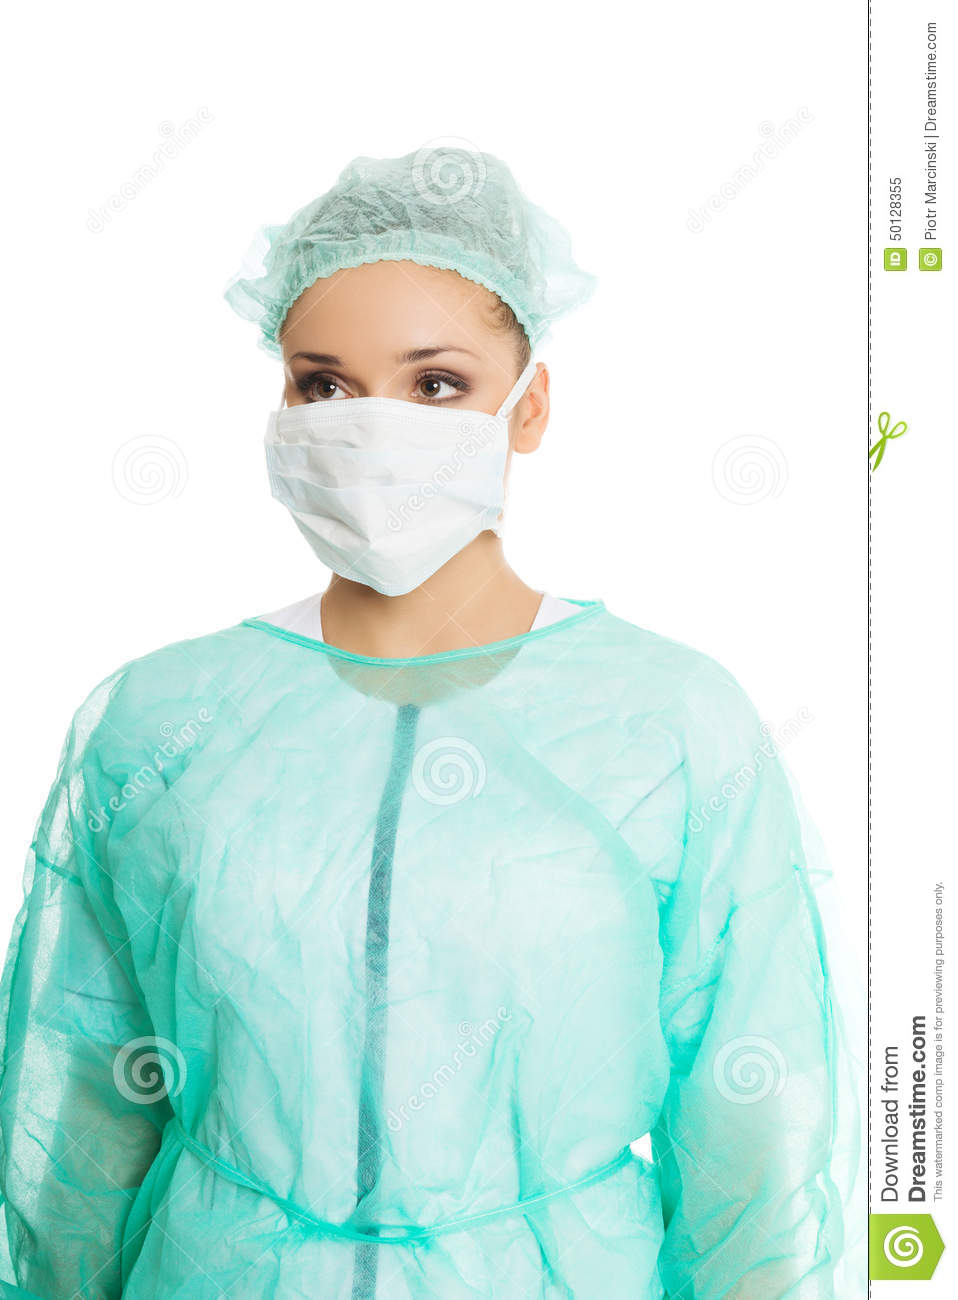mask: (277, 413, 523, 593)
